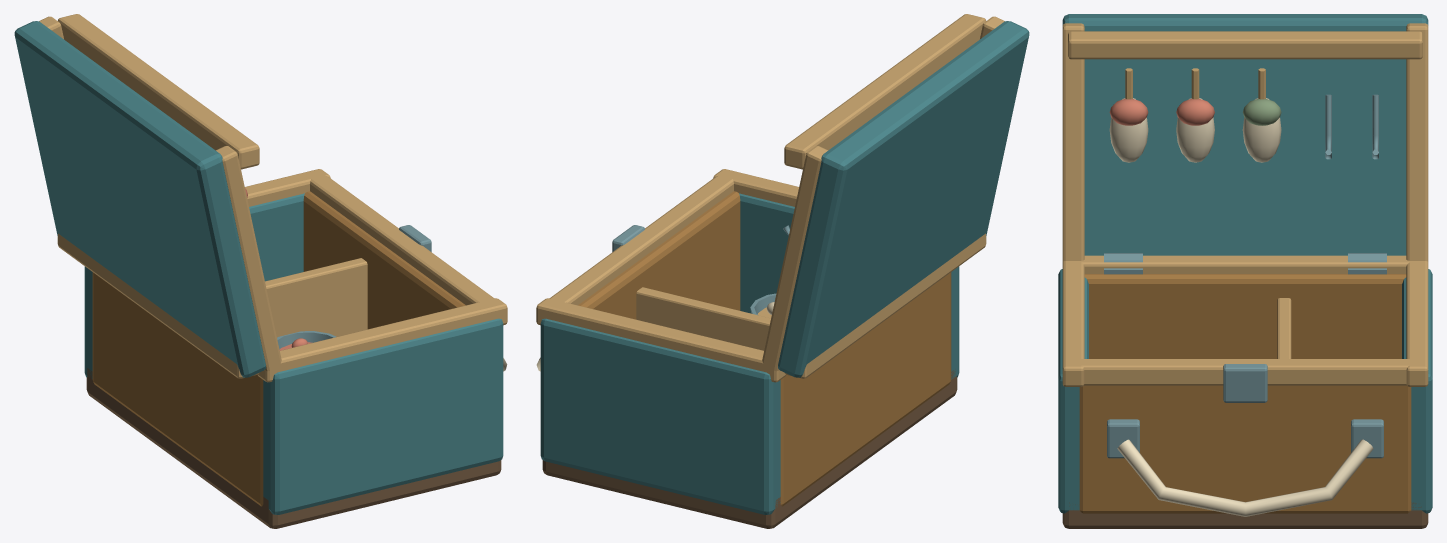
File: SM_FishingTackleBox.fbx
The picture shows the model from 3 angles, left to right: view 1: azimuth 30°, elevation 25°; view 2: azimuth 150°, elevation 25°; view 3: azimuth 270°, elevation 25°; orthographic projection. The views are drawn at different scales.
Visible parts, largest first — view 1: SM_FishingTackleBox; view 2: SM_FishingTackleBox; view 3: SM_FishingTackleBox.
Boxes of the visible parts, box(x1,y1,x2,y2) form: SM_FishingTackleBox: box(14, 14, 507, 528); SM_FishingTackleBox: box(536, 14, 1029, 528); SM_FishingTackleBox: box(1058, 14, 1432, 528).
Bounding box in the file's own units: 0.7402 × 0.675 × 0.7533.
